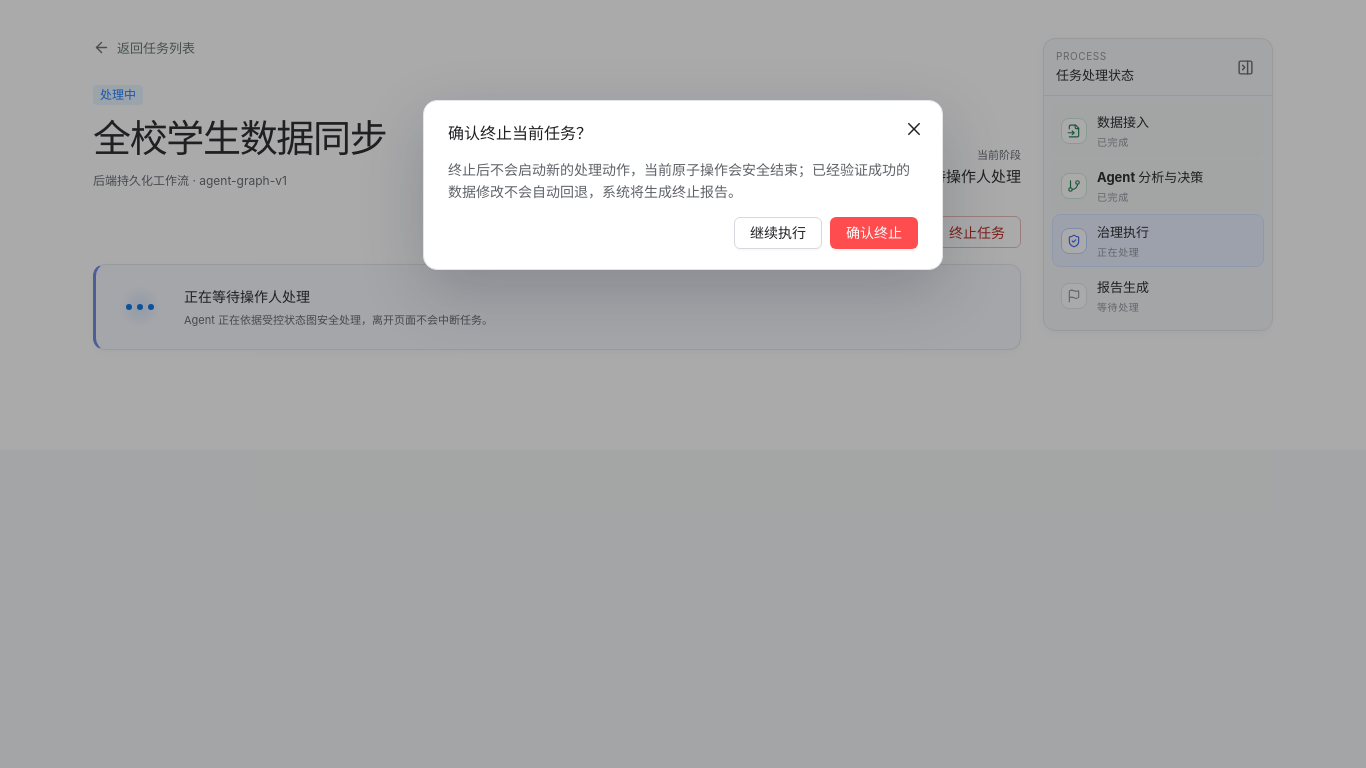
it: controlled Agent graph task detail › dismisses a stale persisted termination gate and refreshes task state
Expected: the dialog "确认终止当前任务？" is shown, x1=423 y1=100 x2=943 y2=294
Click the button "确认终止" at (874, 233), box x1=830 y1=217 x2=918 y2=249
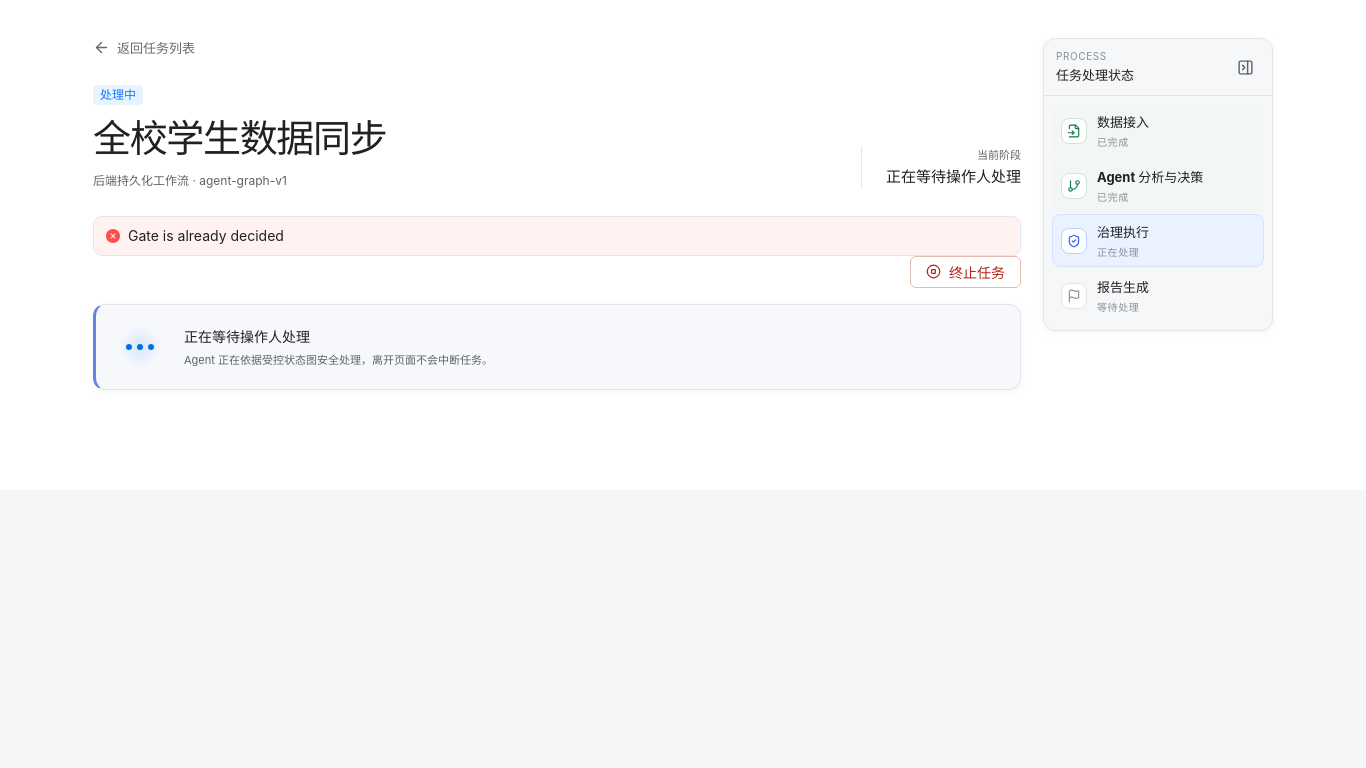
Now the text "确认终止当前任务？" is gone
Now the text "Gate is already decided" is shown, box x1=128 y1=226 x2=284 y2=244
